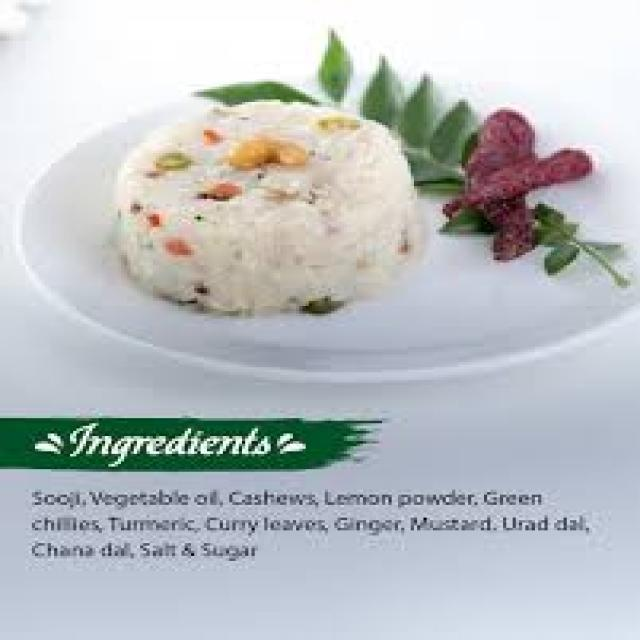UPMA: (111, 99, 420, 306)
